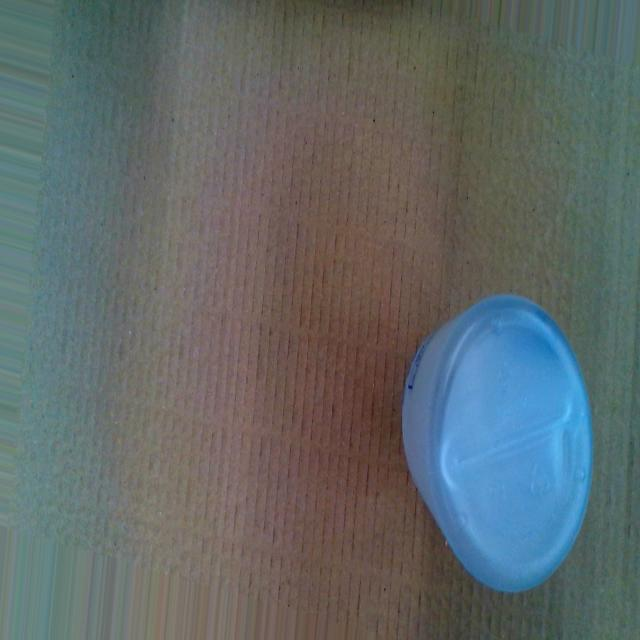bottle: (402, 292, 595, 595)
